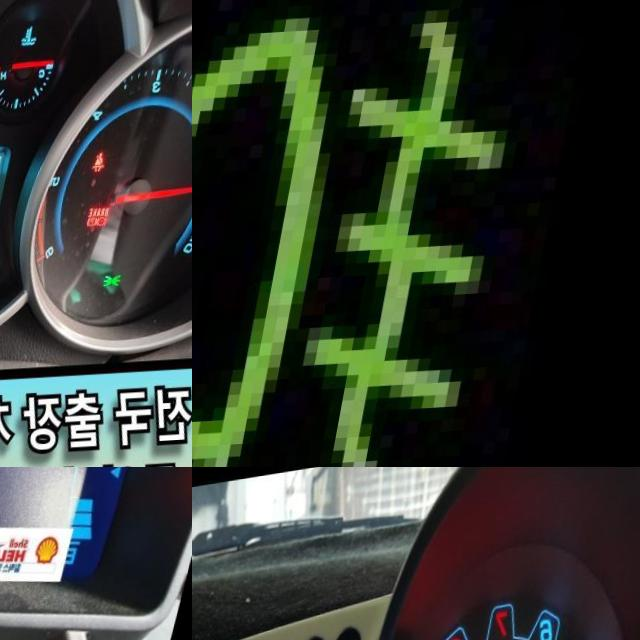FrontFogLight: (192, 0, 560, 467)
SideLamp: (118, 279, 137, 293)
